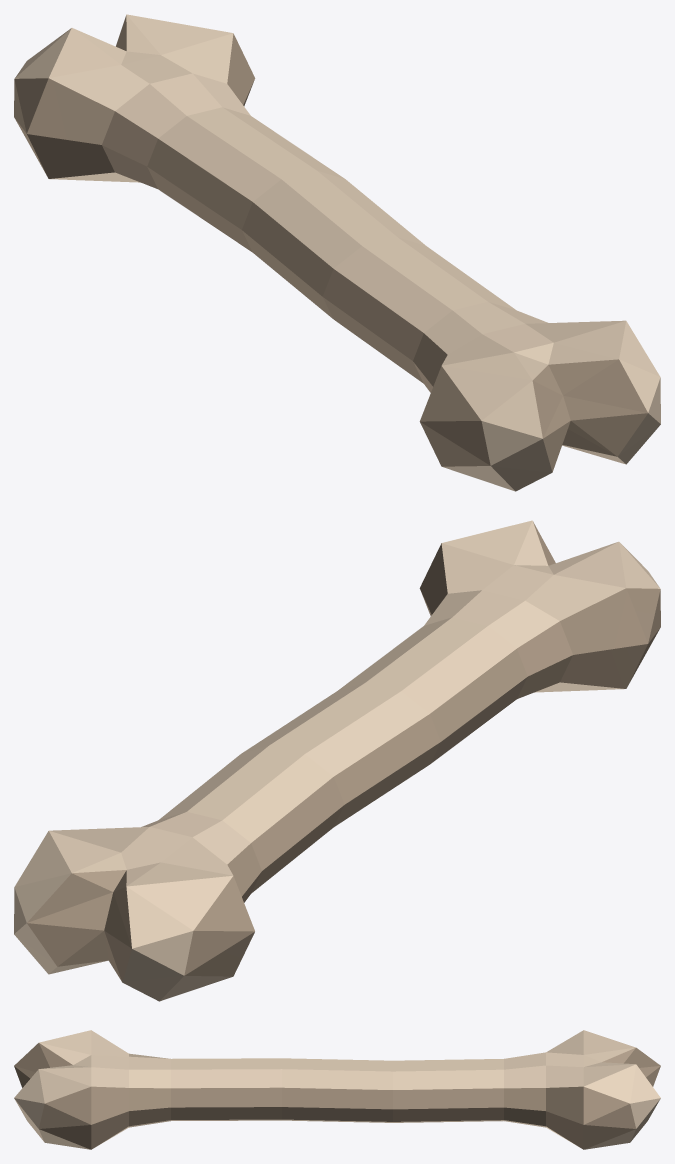
Rendered from BonesSmall_01.glb.
3 views of the same model, one above another, from view 1: azimuth 30°, elevation 25°; view 2: azimuth 150°, elevation 25°; view 3: azimuth 270°, elevation 25° (orthographic). The views are drawn at different scales.
Visible parts, largest first — view 1: BonesSmall_01; view 2: BonesSmall_01; view 3: BonesSmall_01.
Part boxes in pixels (box(x1,y1,x2,y2)): BonesSmall_01: box(14, 14, 660, 491); BonesSmall_01: box(14, 520, 660, 1001); BonesSmall_01: box(14, 1030, 660, 1149).
Size of what is drawn, in the model's own units: 0.189 by 0.0883 by 0.7398.
Materials: 1 (1 with a texture image).
